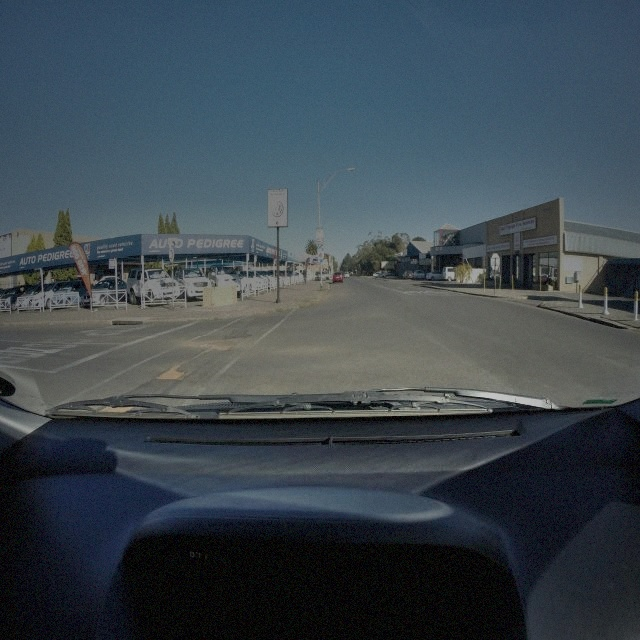pothole: (155, 360, 186, 386), (207, 340, 229, 354)
